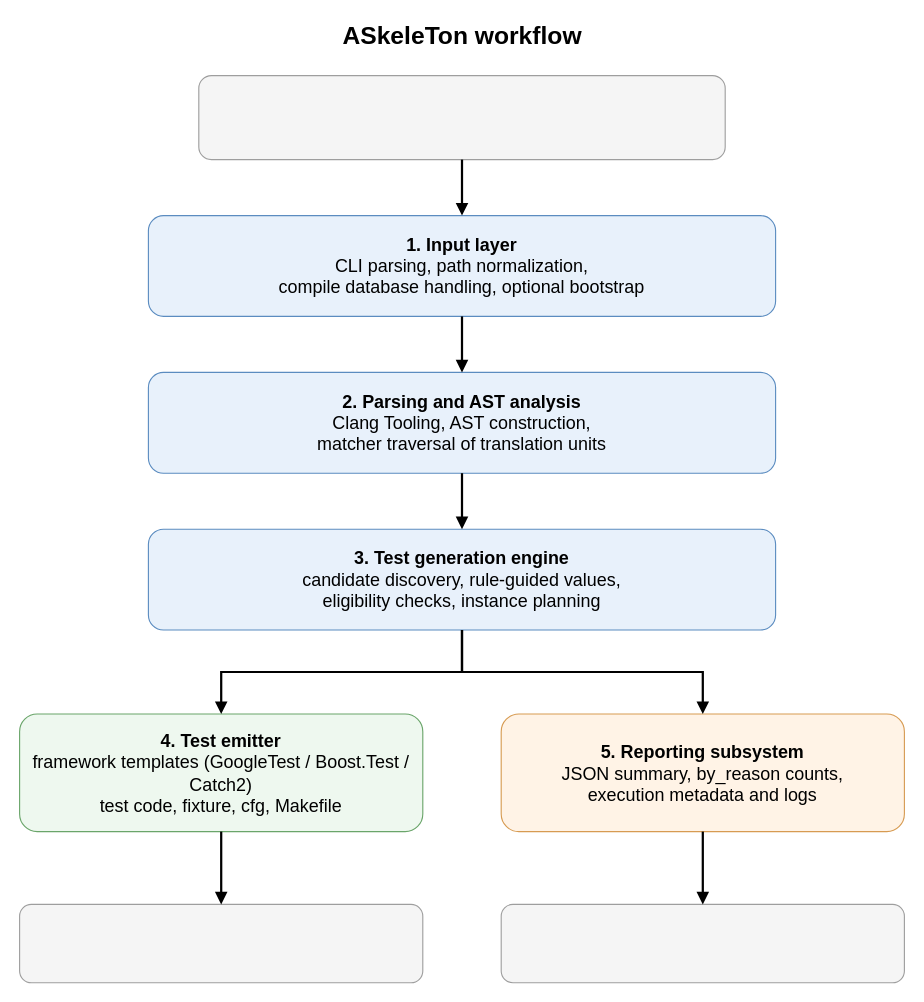
Some shapes in this 924 by 1002 pixel diagram are drawn without their labels. Here are the shapes that lost their labels. From the top down, the box of each, then its label:
(198, 74, 725, 160): C/C++ project source files + compile_commands.json
(18, 903, 423, 983): Generated test suite (framework-specific sources + cfg files)
(500, 903, 904, 983): Structured execution report (report.json, log.json)
